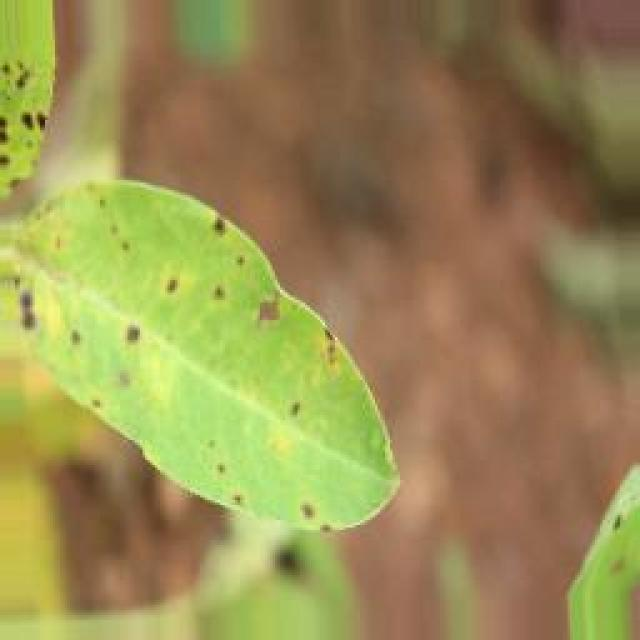Yellowish: (0, 51, 418, 552)
